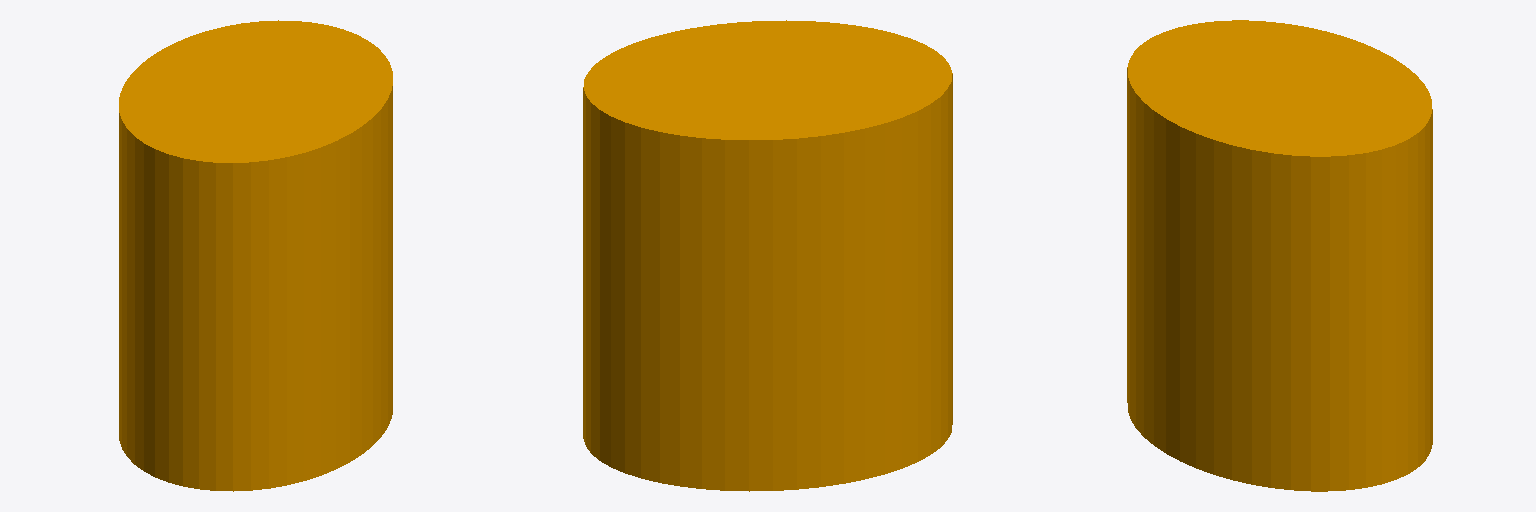
robot.urdf — object:
<?xml version="1.0"?>
<robot name="object">
  <link name="object">
    <visual>
      <origin xyz="0 0 0"/>
      <geometry>
        <mesh filename="meshes/generated/col_058.obj" scale="0.03 0.03 0.03"/>
      </geometry>
    </visual>
    <collision>
      <origin xyz="0 0 0"/>
      <geometry>
        <mesh filename="meshes/generated/col_058.obj" scale="0.03 0.03 0.03"/>
      </geometry>
    </collision>
    <inertial>
      <density value="1000.0"/>
    </inertial>
  </link>
</robot>

--- What the picture shows (computed from the rendered views, not written in the file) ---
The picture shows the robot from 3 angles, left to right: view 1: azimuth 30°, elevation 25°; view 2: azimuth 150°, elevation 25°; view 3: azimuth 270°, elevation 25°; orthographic projection.
Robot: object — 1 links, 0 joints (none); root link object; default pose: every joint at zero.
Visible links, largest first — view 1: object; view 2: object; view 3: object.
Link boxes in pixels (left/top/right/bottom): object: left=119, top=20, right=392, bottom=491; object: left=583, top=20, right=952, bottom=491; object: left=1127, top=20, right=1432, bottom=491.
Bounding box of the posed robot: 0.0523 × 0.0495 × 0.06 m (x, y, z).
1 mesh visuals loaded from 1 distinct referenced files (1 OBJ).
